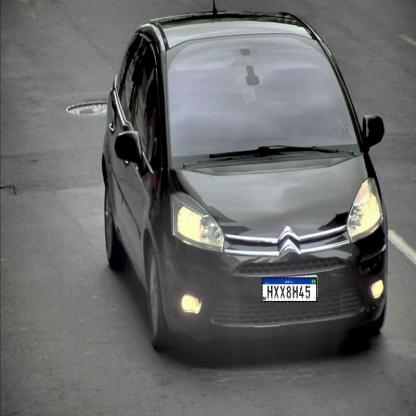PlacaM: (262, 278, 317, 302)
